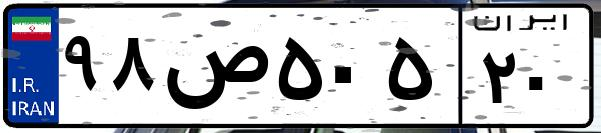0: (330, 28, 385, 110), (525, 38, 570, 115)
2: (475, 38, 525, 113)
5: (270, 28, 330, 110), (385, 28, 445, 110)
8: (110, 28, 158, 98)
9: (57, 26, 110, 100)
ص: (158, 20, 270, 120)
